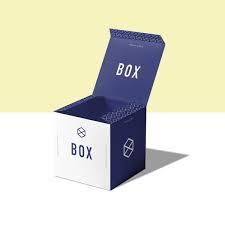cube: (51, 95, 145, 190)
